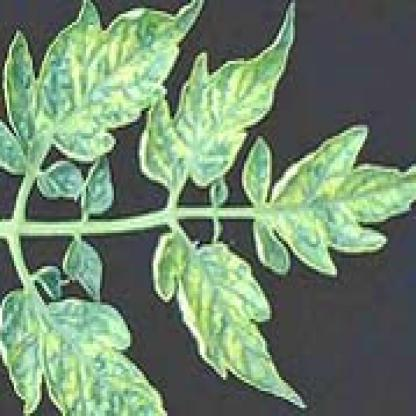tomato leaf mosaic virus: (7, 6, 205, 191), (137, 8, 300, 202), (149, 233, 309, 410), (2, 266, 177, 413), (242, 133, 414, 280)
